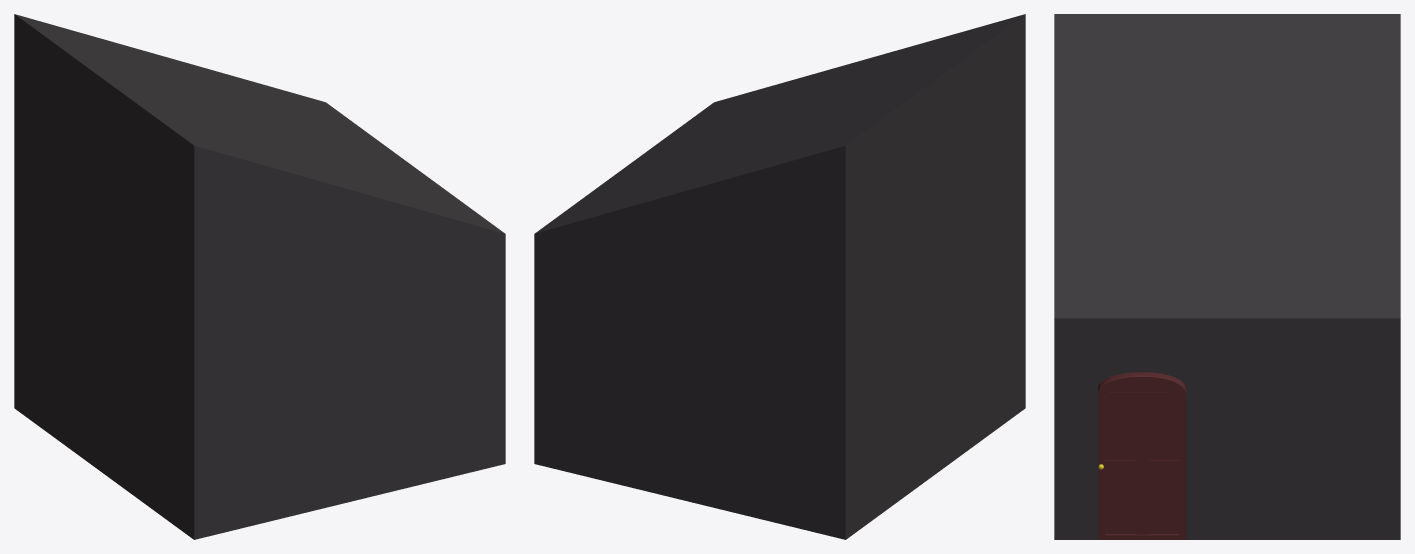
The model's file is Barracks.fbx.
3 views of the same model, side by side, from view 1: azimuth 30°, elevation 25°; view 2: azimuth 150°, elevation 25°; view 3: azimuth 270°, elevation 25° (orthographic). The views are drawn at different scales.
Visible parts, largest first — view 1: Cube; view 2: Cube; view 3: Cube, Door.
Part boxes in pixels (x1,y1,x2,y2): Cube: (14,14,505,539); Cube: (534,14,1025,539); Cube: (1054,14,1400,539); Door: (1098,372,1186,539).
Size of the model in its own units: 814 by 948 by 784.
